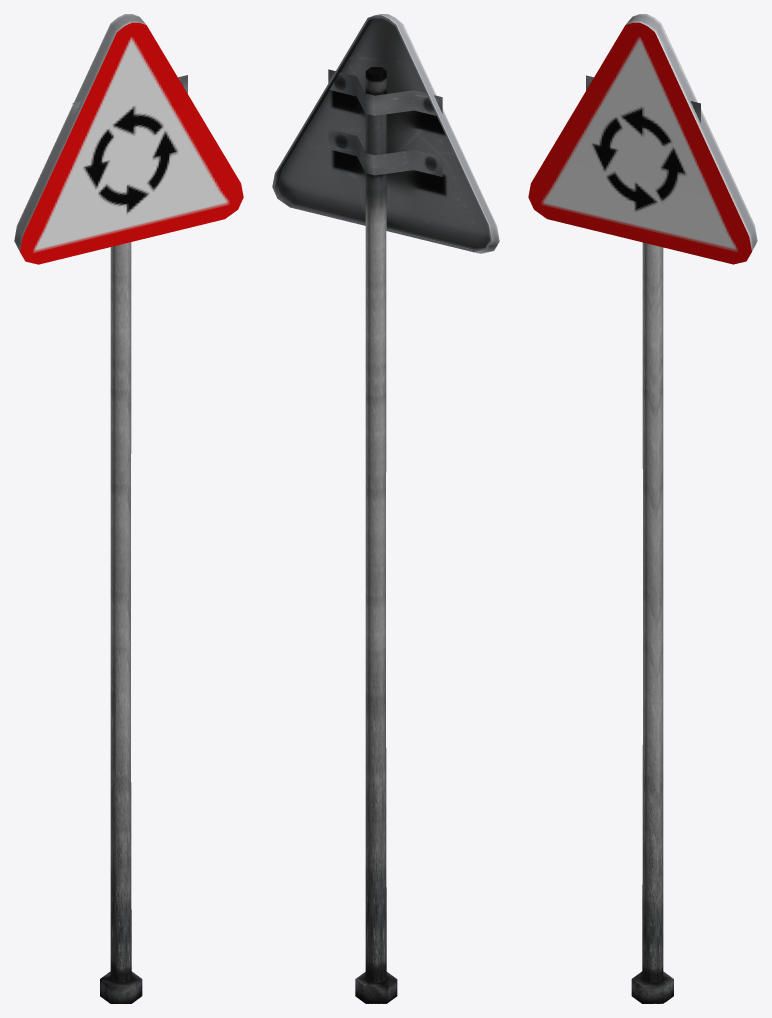
Rendered from ROD0310088.FBX.
3 renders of one model, left to right at view 1: azimuth 30°, elevation 25°; view 2: azimuth 150°, elevation 25°; view 3: azimuth 330°, elevation 25°, orthographic.
Visible parts, largest first — view 1: smROD0310088; view 2: smROD0310088; view 3: smROD0310088.
Part boxes in pixels (<box>): smROD0310088: <box>14,14,243,1003</box>; smROD0310088: <box>272,14,499,1003</box>; smROD0310088: <box>528,14,757,1003</box>.
Size of the model in its own units: 0.7052 by 2.97 by 0.1216.
1 material, 1 textured.
